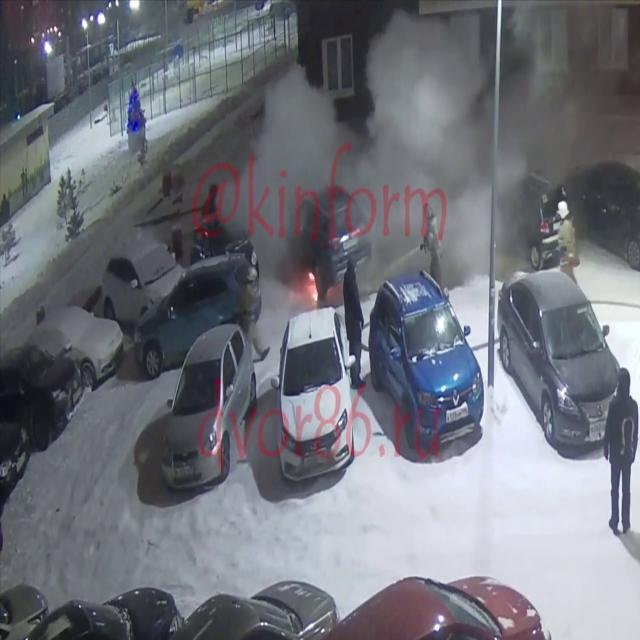Smoke: (396, 0, 636, 282), (225, 52, 366, 268)
